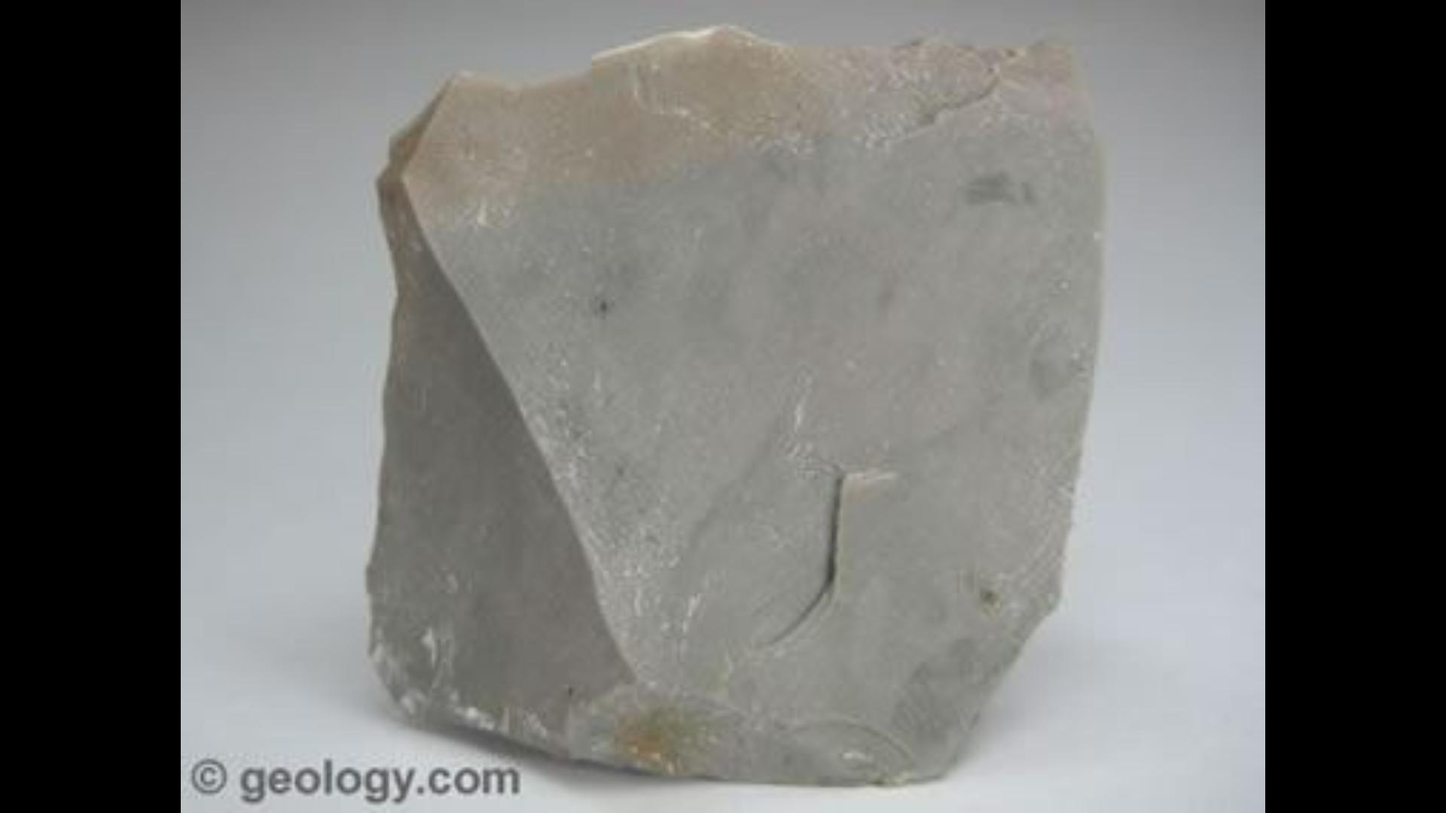rock: (366, 26, 1103, 782)
